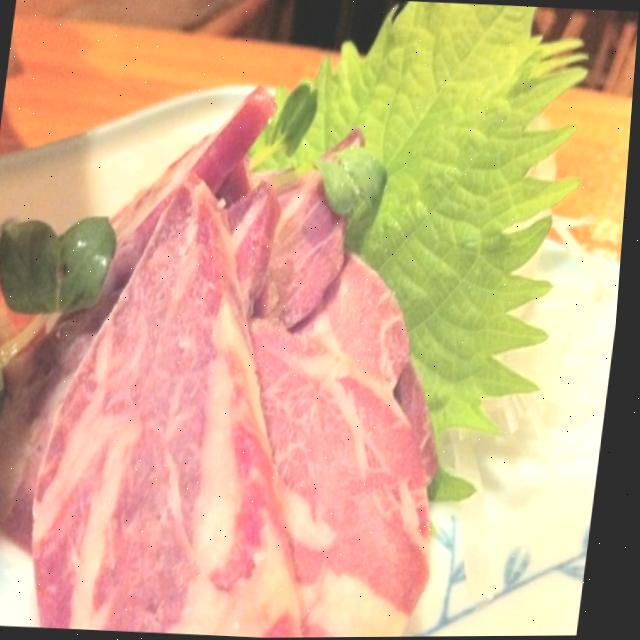刺身生食: (0, 71, 547, 640)
